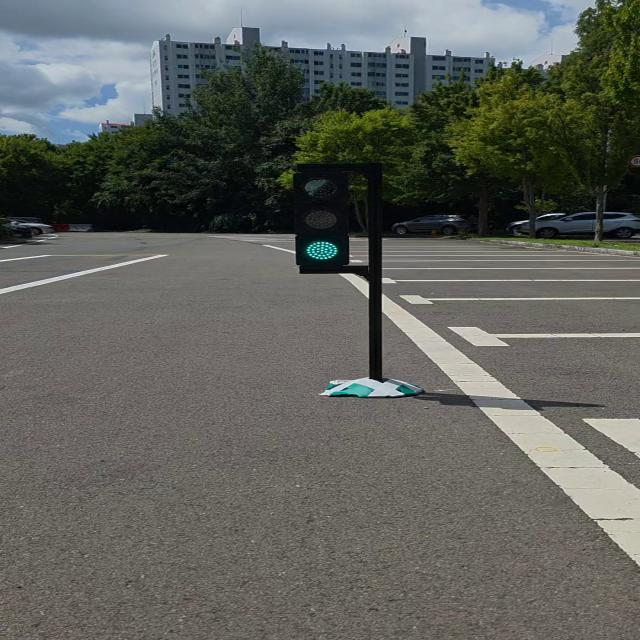green: (292, 162, 352, 276)
